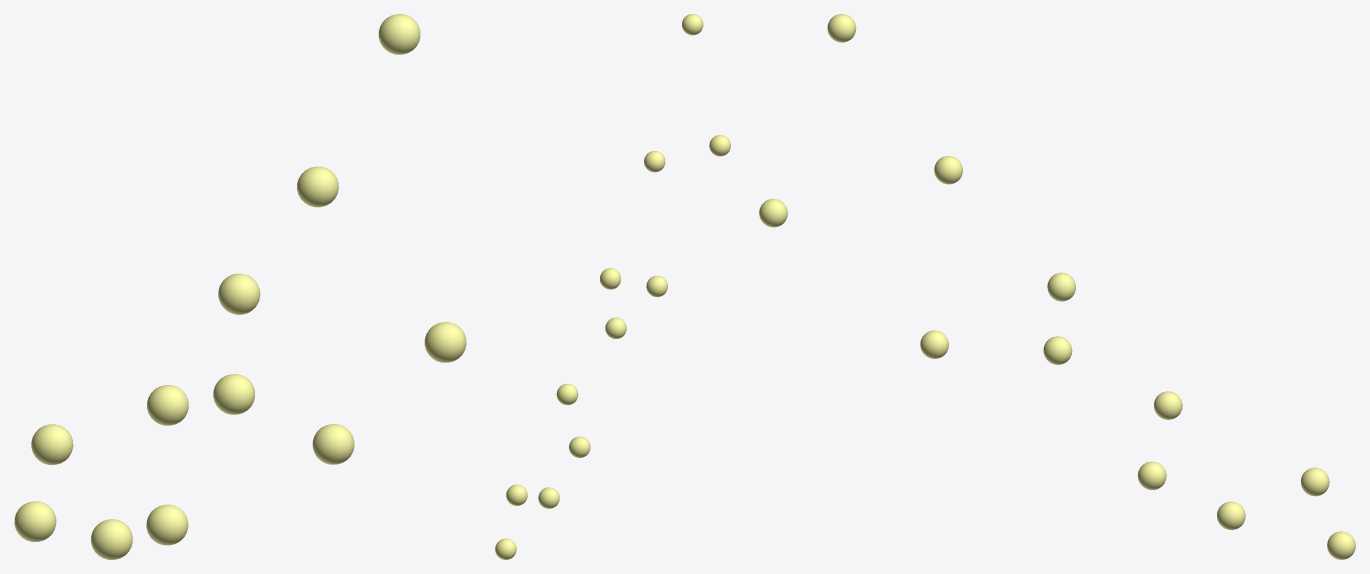
Rendered from Pisces.glb.
3 renders of one model, left to right at view 1: azimuth 30°, elevation 25°; view 2: azimuth 150°, elevation 25°; view 3: azimuth 270°, elevation 25°, orthographic. The views are drawn at different scales.
Parts seen in each view (by area): view 1: instance_8, instance_10, instance_3, instance_4, instance_0, instance_7, instance_9, instance_1, instance_2, instance_5, instance_6; view 2: instance_6, instance_10, instance_7, instance_1, instance_3, instance_5, instance_0, instance_9, instance_2, instance_4, instance_8; view 3: no part large enough to name.
Part boxes in pixels (x1,y1,x2,y2): instance_8: (218, 273, 260, 314); instance_10: (146, 504, 188, 545); instance_3: (378, 14, 420, 54); instance_4: (312, 424, 354, 464); instance_0: (14, 501, 56, 541); instance_7: (424, 322, 466, 362); instance_9: (297, 166, 338, 207); instance_1: (31, 424, 73, 464); instance_2: (147, 385, 188, 425); instance_5: (213, 374, 254, 414); instance_6: (91, 519, 132, 559); instance_6: (538, 487, 559, 508); instance_10: (569, 436, 590, 457); instance_7: (709, 135, 730, 156); instance_1: (506, 484, 527, 505); instance_3: (682, 14, 703, 35); instance_5: (605, 317, 626, 338); instance_0: (495, 538, 516, 559); instance_9: (644, 151, 665, 172); instance_2: (556, 383, 578, 405); instance_4: (646, 275, 667, 297); instance_8: (600, 268, 620, 289).
Size of the model in its own units: 0.0955 by 1.43 by 1.43.
